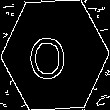O_N: (35, 29, 75, 81)
